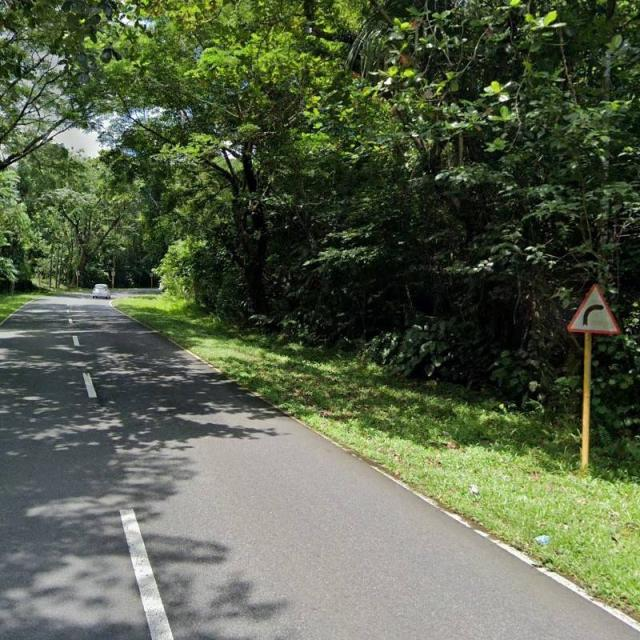warn_right_curve: (566, 284, 620, 334)
